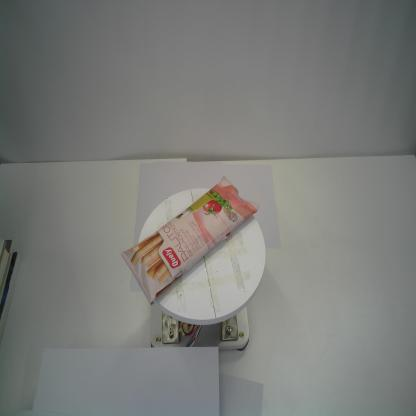Dessert: (120, 173, 261, 306)
